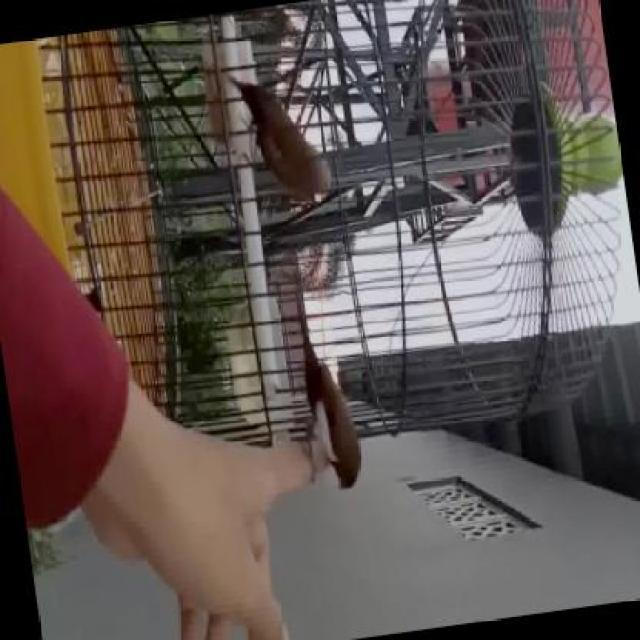Bird: (218, 52, 373, 224), (278, 327, 407, 499)
